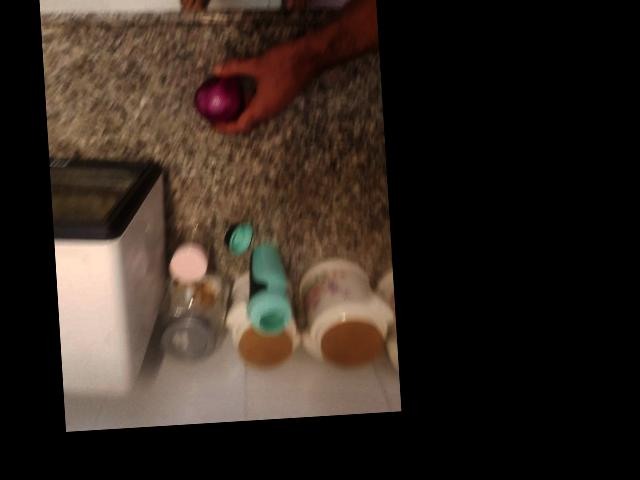onion: (23, 218, 97, 288)
